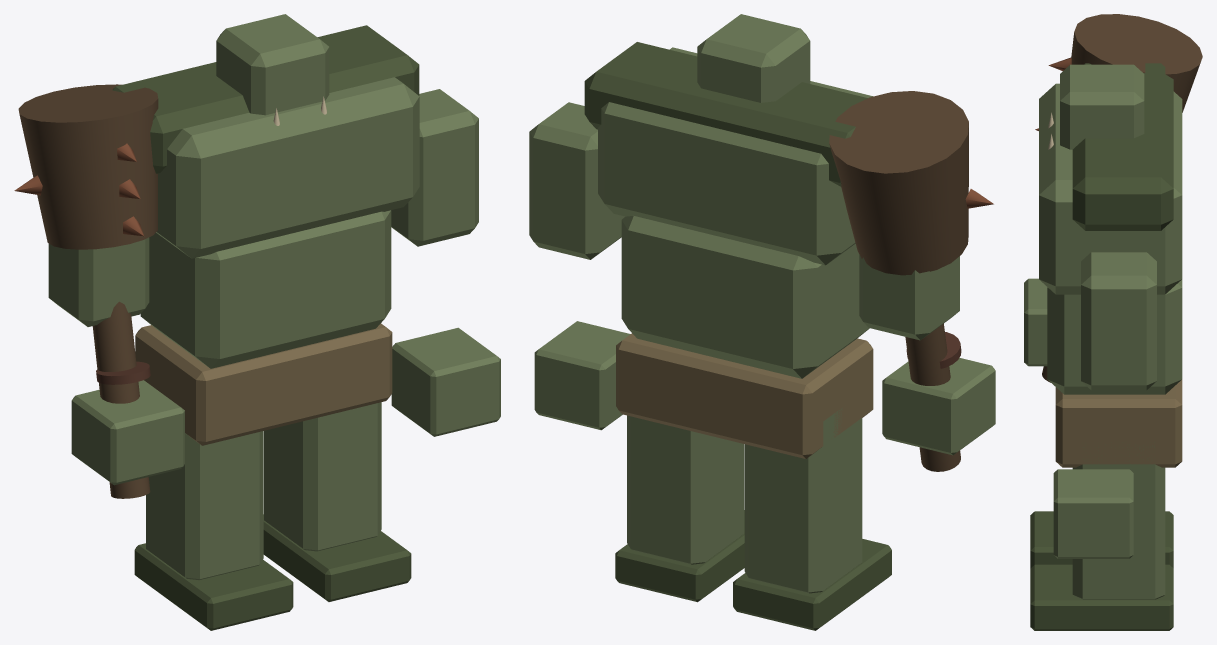
The picture shows the model from 3 angles, left to right: view 1: azimuth 30°, elevation 25°; view 2: azimuth 150°, elevation 25°; view 3: azimuth 270°, elevation 25°; orthographic projection. The views are drawn at different scales.
Visible parts, largest first — view 1: survival_behemoth; view 2: survival_behemoth; view 3: survival_behemoth.
Boxes of the visible parts, left/top/right/bottom form: survival_behemoth: left=14, top=14, right=500, bottom=630; survival_behemoth: left=529, top=14, right=995, bottom=630; survival_behemoth: left=1024, top=14, right=1202, bottom=630.
Size of the model in its own units: 5.78 by 6.65 by 2.12.
